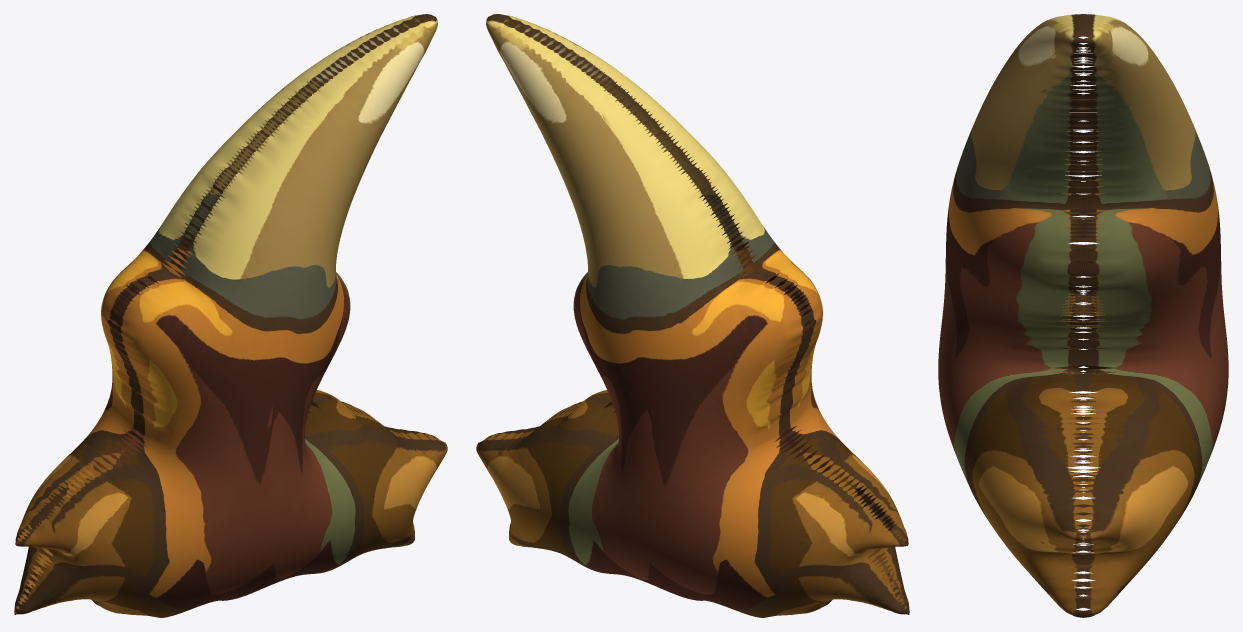
The model's file is horn_stump.glb.
3 views of the same model, side by side, from view 1: azimuth 30°, elevation 25°; view 2: azimuth 150°, elevation 25°; view 3: azimuth 270°, elevation 25° (orthographic). The views are drawn at different scales.
Visible parts, largest first — view 1: horn_stump; view 2: horn_stump; view 3: horn_stump.
Boxes of the visible parts, bbox=[...] form: horn_stump: bbox=[14, 14, 447, 617]; horn_stump: bbox=[476, 14, 909, 617]; horn_stump: bbox=[938, 14, 1228, 617].
Bounding box in the file's own units: 0.9821 × 1.14 × 0.4989.
Materials: 1 (1 with a texture image).
